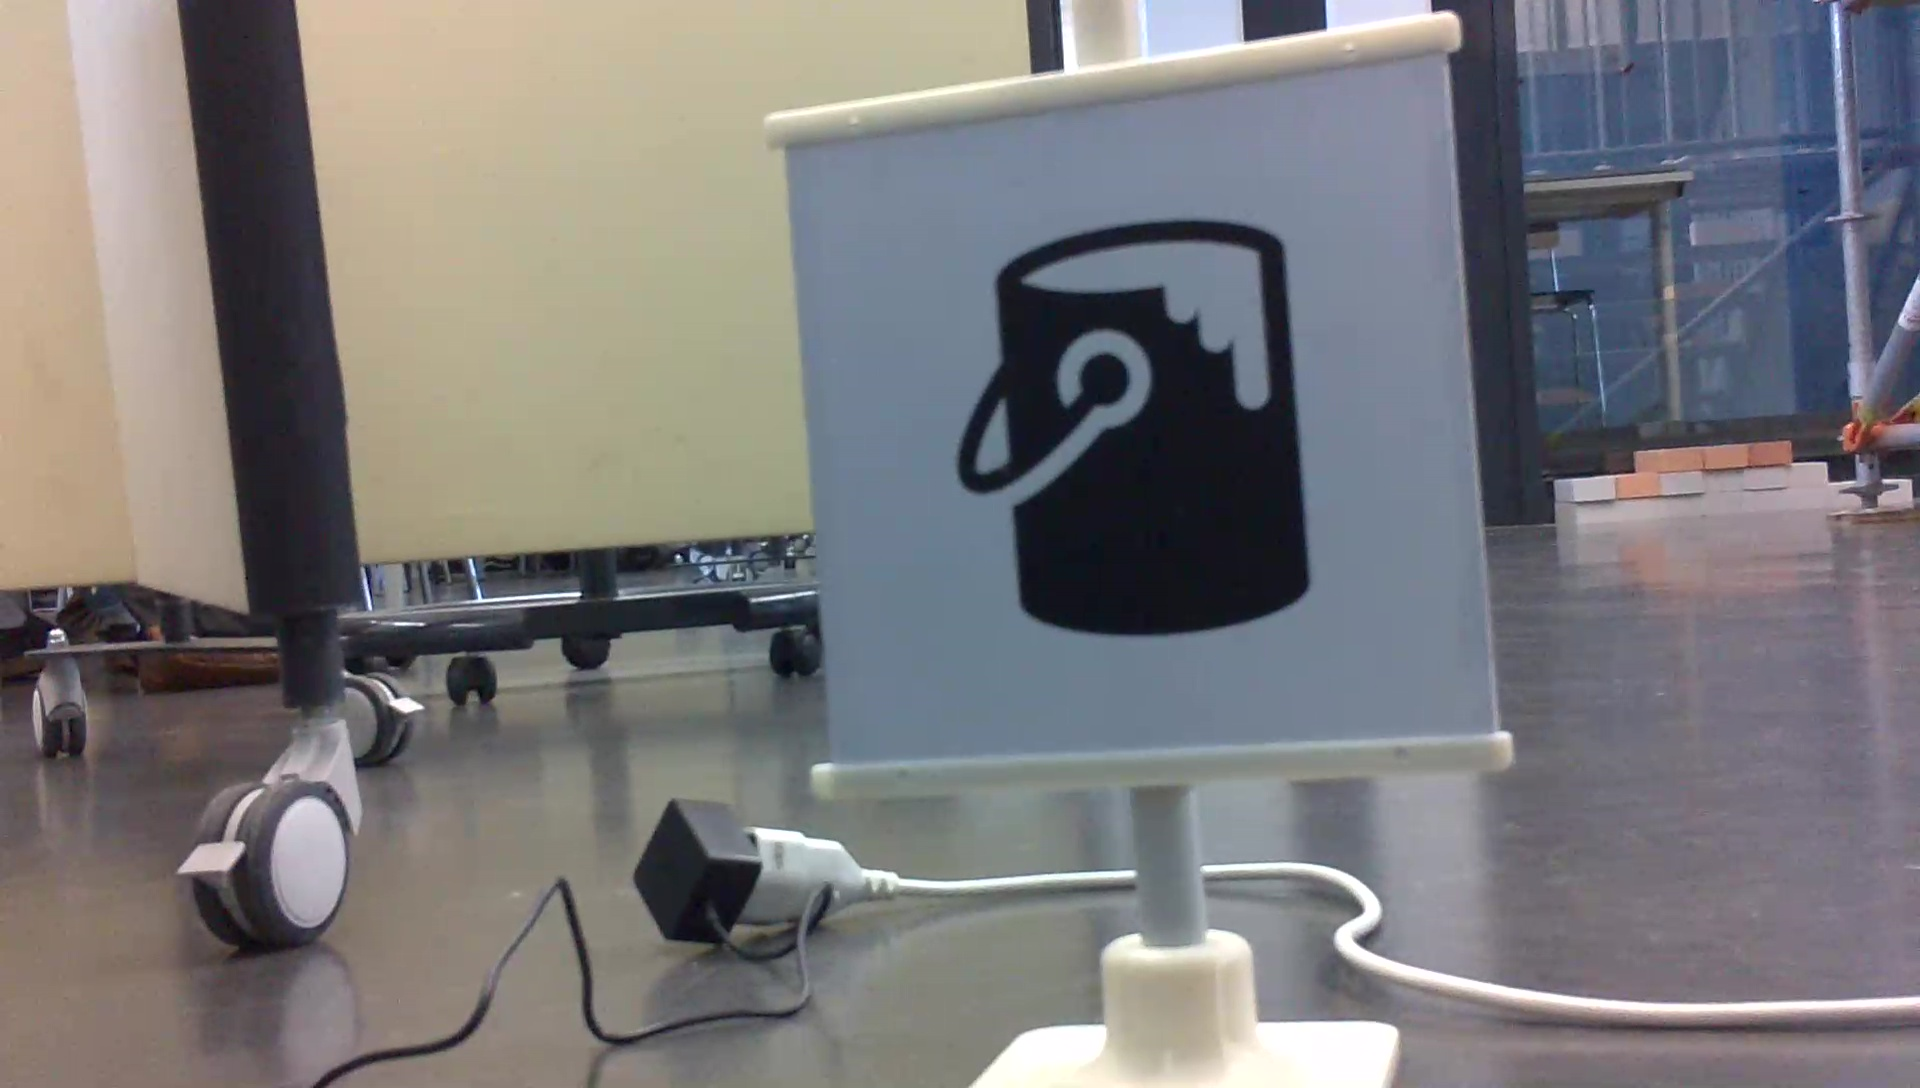bucket: (944, 210, 1317, 648)
